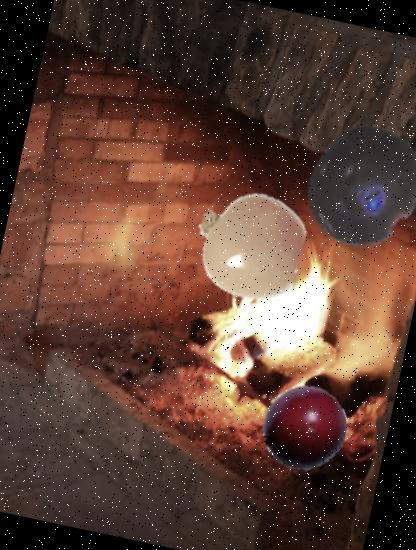Passion: (291, 115, 416, 261)
Physalis: (185, 181, 315, 311)
Tamarillo: (254, 377, 356, 480)
